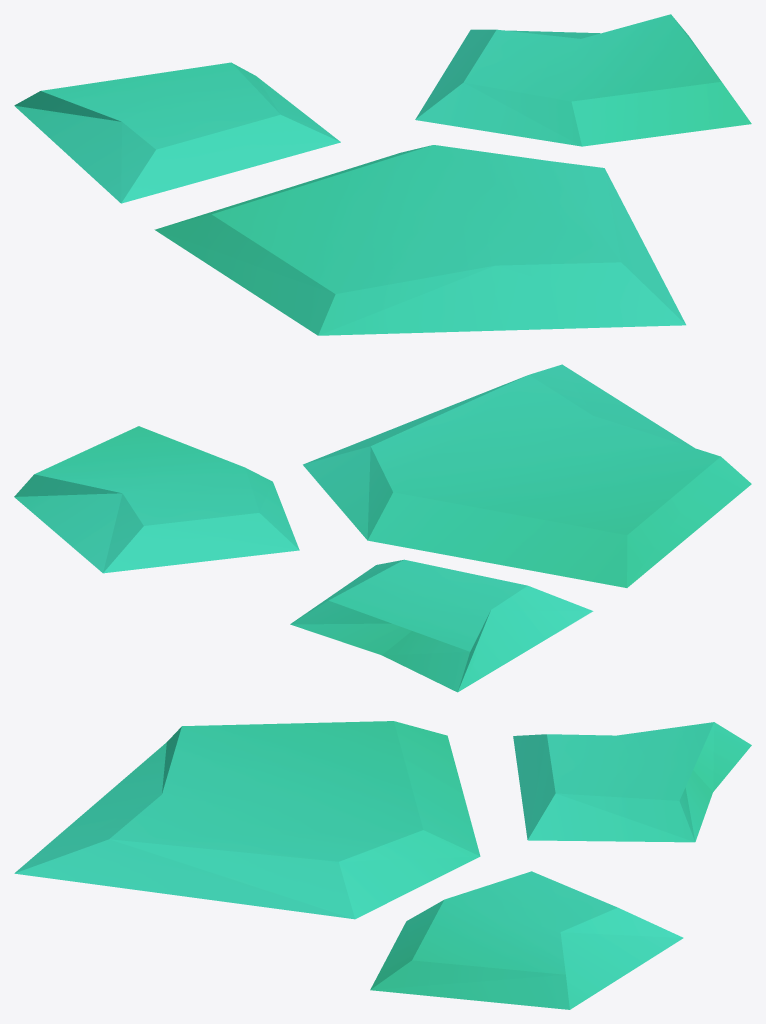
Rendered from SM_APP_Lush_Rock_flat.glb.
The picture shows the model from 3 angles, top to bottom: view 1: azimuth 30°, elevation 25°; view 2: azimuth 150°, elevation 25°; view 3: azimuth 270°, elevation 25°; orthographic projection. The views are drawn at different scales.
Visible parts, largest first — view 1: SM_APP_Lush_Rock_flat; view 2: SM_APP_Lush_Rock_flat; view 3: SM_APP_Lush_Rock_flat.
Boxes of the visible parts, x1,y1,x2,y2 form: SM_APP_Lush_Rock_flat: (14, 14, 751, 335); SM_APP_Lush_Rock_flat: (14, 364, 751, 692); SM_APP_Lush_Rock_flat: (14, 721, 751, 1009).
Size of the model in its own units: 3.69 by 0.1735 by 4.19.
Materials: 1 (1 with a texture image).
